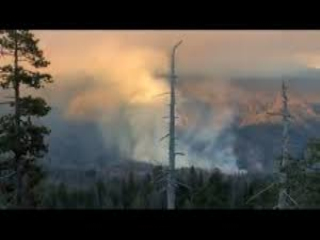smoke: (90, 48, 255, 175)
